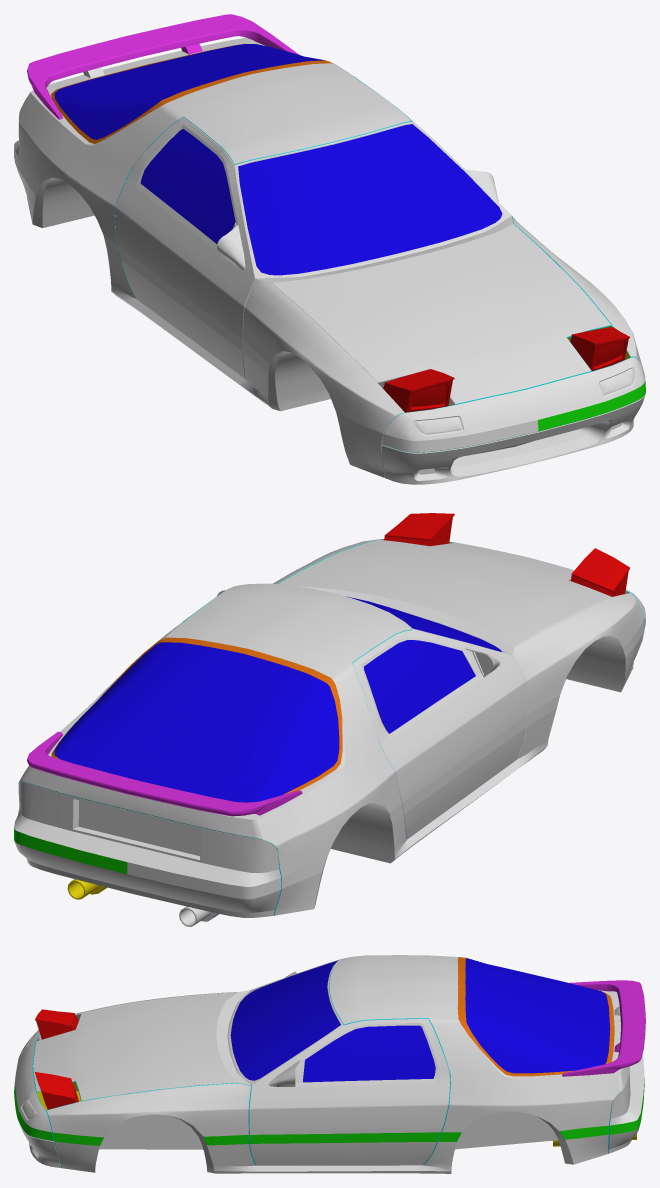
File: car_bot.fbx
3 renders of one model, top to bottom at view 1: azimuth 30°, elevation 25°; view 2: azimuth 150°, elevation 25°; view 3: azimuth 270°, elevation 25°, orthographic. The views are drawn at different scales.
Parts seen in each view (by area): view 1: Plane.058; view 2: Plane.058; view 3: Plane.058.
Boxes of the visible parts, left/top/right/bottom form: Plane.058: left=14, top=14, right=645, bottom=484; Plane.058: left=14, top=513, right=645, bottom=926; Plane.058: left=14, top=955, right=645, bottom=1173.
Bounding box in the file's own units: 199 × 122 × 484.
